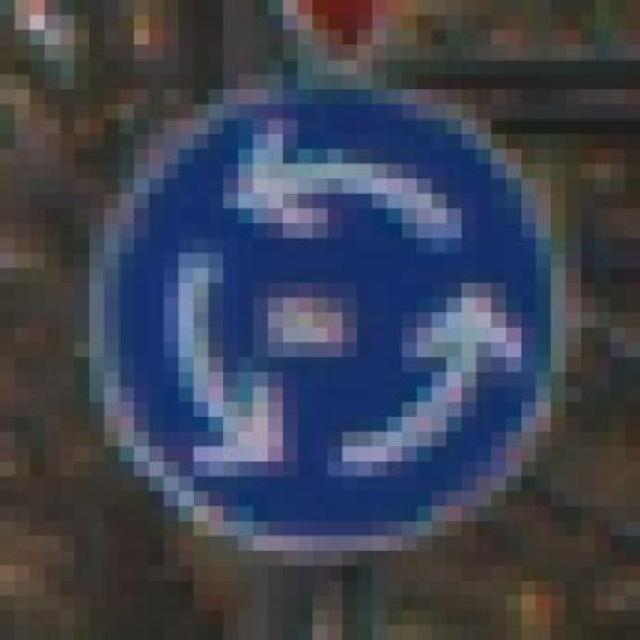Round-About: (74, 59, 611, 581)
